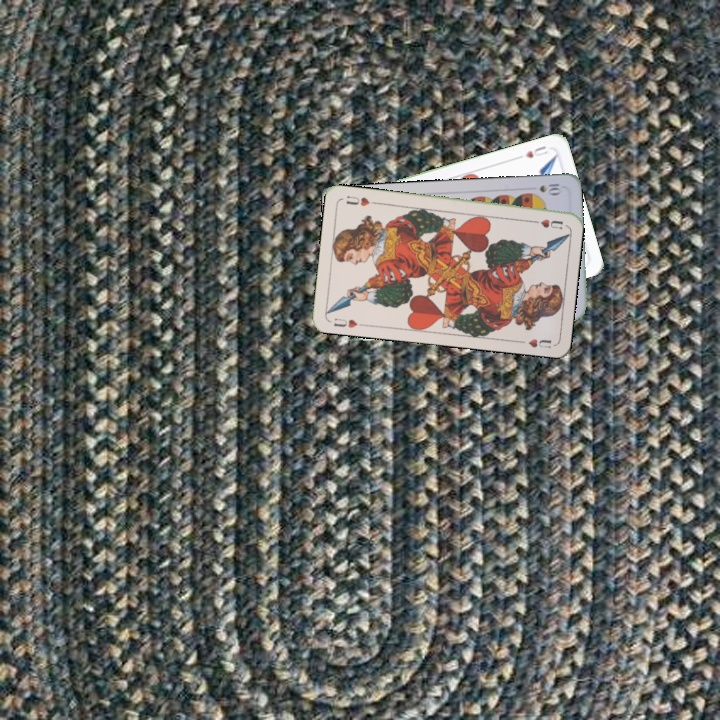HU: (514, 142, 550, 161), (527, 215, 566, 231), (330, 314, 360, 330)
S10: (536, 180, 564, 197)
